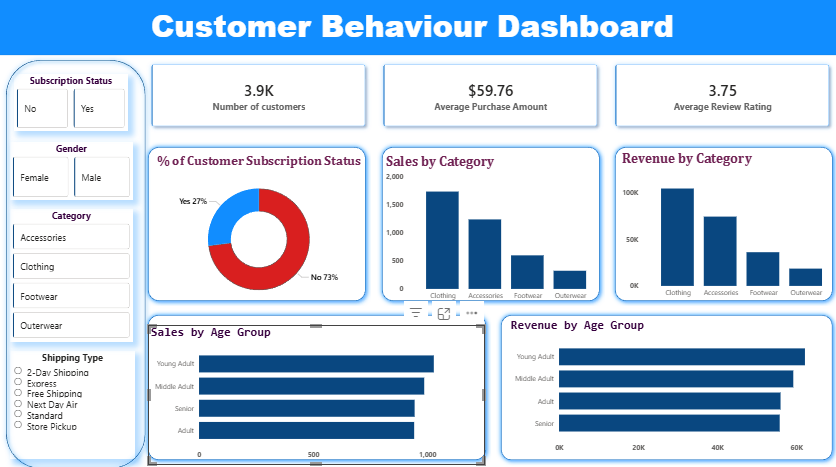

Layout of this report page (visuals, bound fields, positions):
{"tool":"powerbi","page":{"name":"Page 1","canvas":[1500,850],"ordinal":0},"visuals":[{"type":"cardVisual","fields":{"Data":["customer.Number of customers","customer.Average Purchase Amount","customer.Average Review Rating"]},"box":[246.1,94.5,1253.9,167.3],"z":0},{"type":"shape","box":[0,0,1500,108.3],"z":1000},{"type":"textbox","title":"Customer Behaviour Dashboard","box":[220.5,17.7,1031.5,74.8],"z":2000},{"type":"shape","box":[261.8,261.8,401.6,289.4],"z":3000},{"type":"donutChart","title":"% of Customer Subscription Status","fields":{"Category":["customer.subscription_status"],"Y":["CountNonNull(customer.customer_id)"]},"box":[273.6,279.5,383.9,277.6],"z":4000},{"type":"shape","box":[673.2,261.8,401.6,289.4],"z":5000},{"type":"shape","box":[1084.6,261.8,401.6,289.4],"z":6000},{"type":"clusteredColumnChart","title":"Sales by Category","fields":{"Y":["CountNonNull(customer.customer_id)"],"Category":["customer.category"]},"box":[685,279.5,395.7,269.7],"z":7000},{"type":"clusteredColumnChart","title":"Revenue by Category","fields":{"Y":["Sum(customer.purchase_amount)"],"Category":["customer.category"]},"box":[1100.4,275.6,395.7,269.7],"z":8000},{"type":"shape","box":[9.8,108.3,263.8,738.2],"z":9000},{"type":"advancedSlicerVisual","title":"Subscription Status","fields":{"Values":["customer.subscription_status"]},"box":[33.5,141.7,200.8,100.4],"z":10000},{"type":"advancedSlicerVisual","title":"Gender","fields":{"Values":["customer.gender"]},"box":[25.6,261.8,216.5,102.4],"z":11000},{"type":"advancedSlicerVisual","title":"Category","fields":{"Values":["customer.category"]},"box":[25.6,379.9,216.5,234.3],"z":11001},{"type":"listSlicer","title":"Shipping Type","fields":{"Values":["customer.shipping_type"]},"box":[25.6,629.9,220.5,190.9],"z":11002},{"type":"clusteredBarChart","title":"Sales by Age Group","fields":{"Y":["CountNonNull(customer.customer_id)"],"Category":["customer.age_group"]},"box":[279.5,578.7,626,242.1],"z":11003},{"type":"shape","box":[883.9,557.1,602.4,273.6],"z":11004},{"type":"shape","box":[261.8,557.1,622,273.6],"z":11005},{"type":"clusteredBarChart","title":"Revenue by Age Group","fields":{"Y":["Sum(customer.purchase_amount)"],"Category":["customer.age_group"]},"box":[905.5,570.9,594.5,246.1],"z":11006}]}

Visuals, with their boxes in screenshot pixels (x1, y1, x2, y2), scaled from the page's 1500x850 canvas onto the 836x467 screenshot:
cardVisual - customer.Number of customers x customer.Average Purchase Amount: {"x1": 137, "y1": 52, "x2": 835, "y2": 144}
shape: {"x1": 0, "y1": 0, "x2": 835, "y2": 60}
"Customer Behaviour Dashboard" textbox: {"x1": 123, "y1": 10, "x2": 698, "y2": 51}
shape: {"x1": 146, "y1": 144, "x2": 370, "y2": 303}
"% of Customer Subscription Status" donutChart: {"x1": 152, "y1": 154, "x2": 366, "y2": 306}
shape: {"x1": 375, "y1": 144, "x2": 599, "y2": 303}
shape: {"x1": 604, "y1": 144, "x2": 828, "y2": 303}
"Sales by Category" clusteredColumnChart: {"x1": 382, "y1": 154, "x2": 602, "y2": 302}
"Revenue by Category" clusteredColumnChart: {"x1": 613, "y1": 151, "x2": 834, "y2": 300}
shape: {"x1": 5, "y1": 60, "x2": 152, "y2": 465}
"Subscription Status" advancedSlicerVisual: {"x1": 19, "y1": 78, "x2": 131, "y2": 133}
"Gender" advancedSlicerVisual: {"x1": 14, "y1": 144, "x2": 135, "y2": 200}
"Category" advancedSlicerVisual: {"x1": 14, "y1": 209, "x2": 135, "y2": 337}
"Shipping Type" listSlicer: {"x1": 14, "y1": 346, "x2": 137, "y2": 451}
"Sales by Age Group" clusteredBarChart: {"x1": 156, "y1": 318, "x2": 505, "y2": 451}
shape: {"x1": 493, "y1": 306, "x2": 828, "y2": 456}
shape: {"x1": 146, "y1": 306, "x2": 493, "y2": 456}
"Revenue by Age Group" clusteredBarChart: {"x1": 505, "y1": 314, "x2": 835, "y2": 449}
